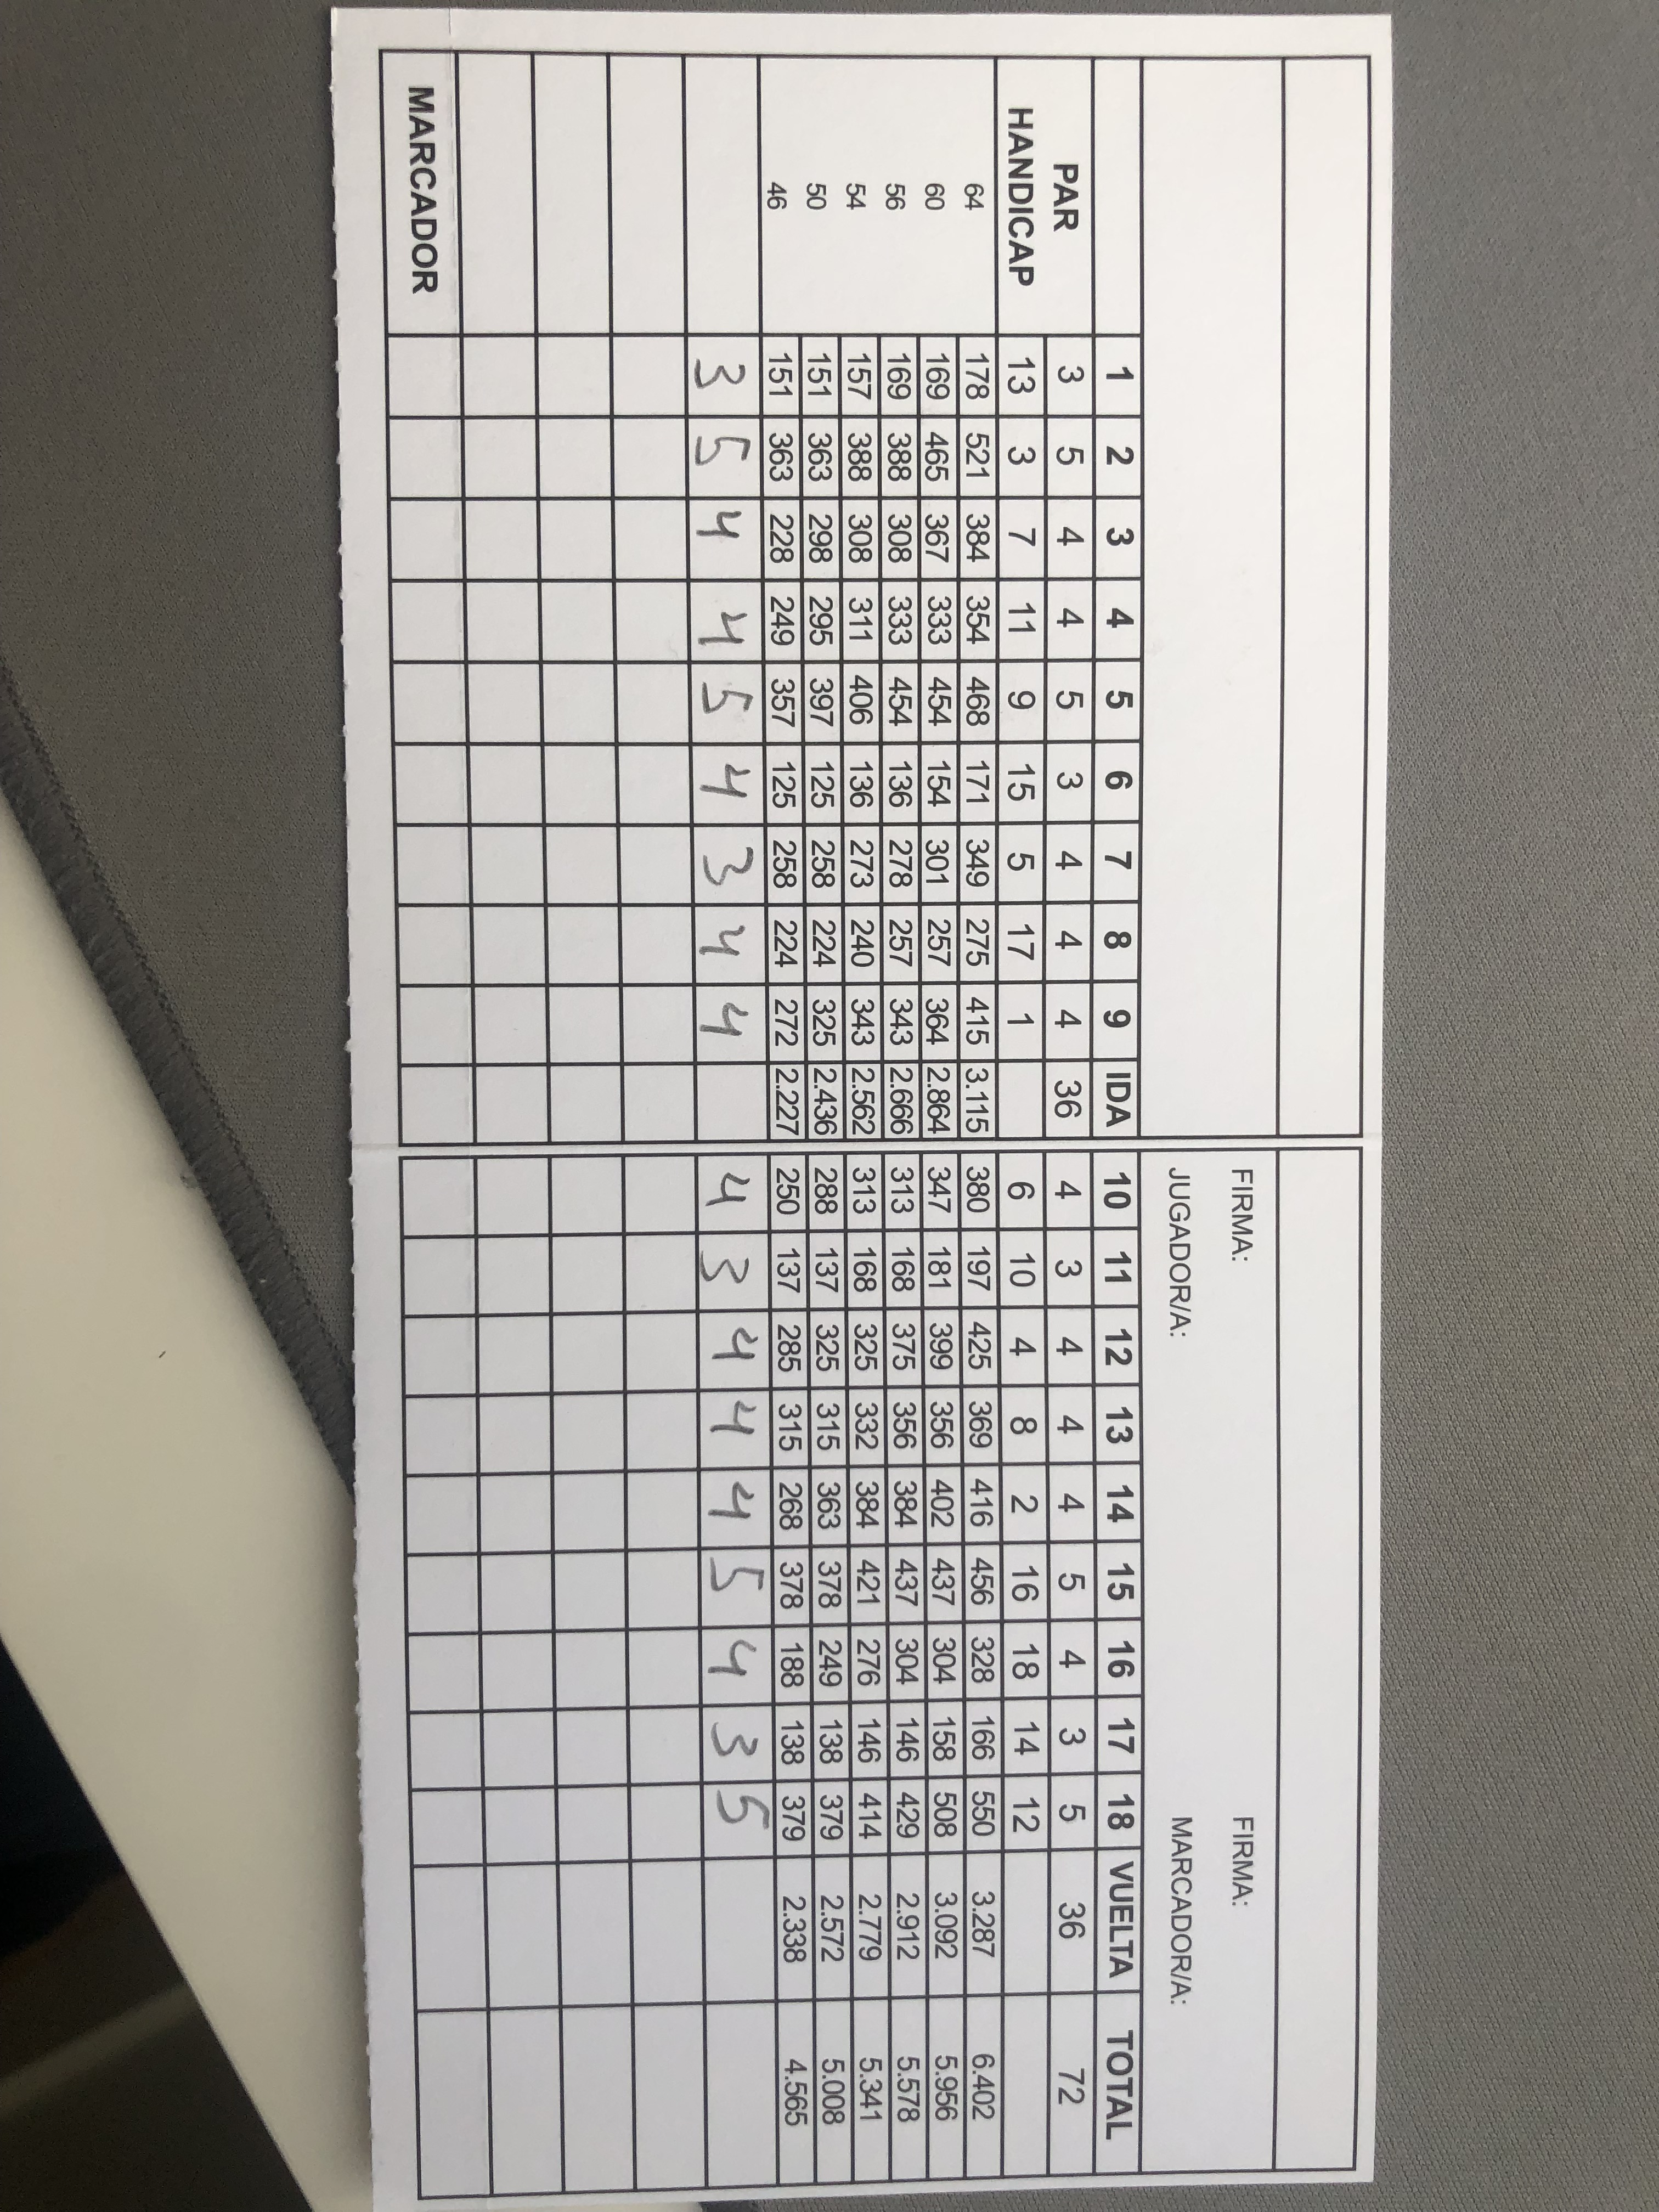par: (1046, 138, 1091, 2132)
score: (688, 333, 777, 1855)
